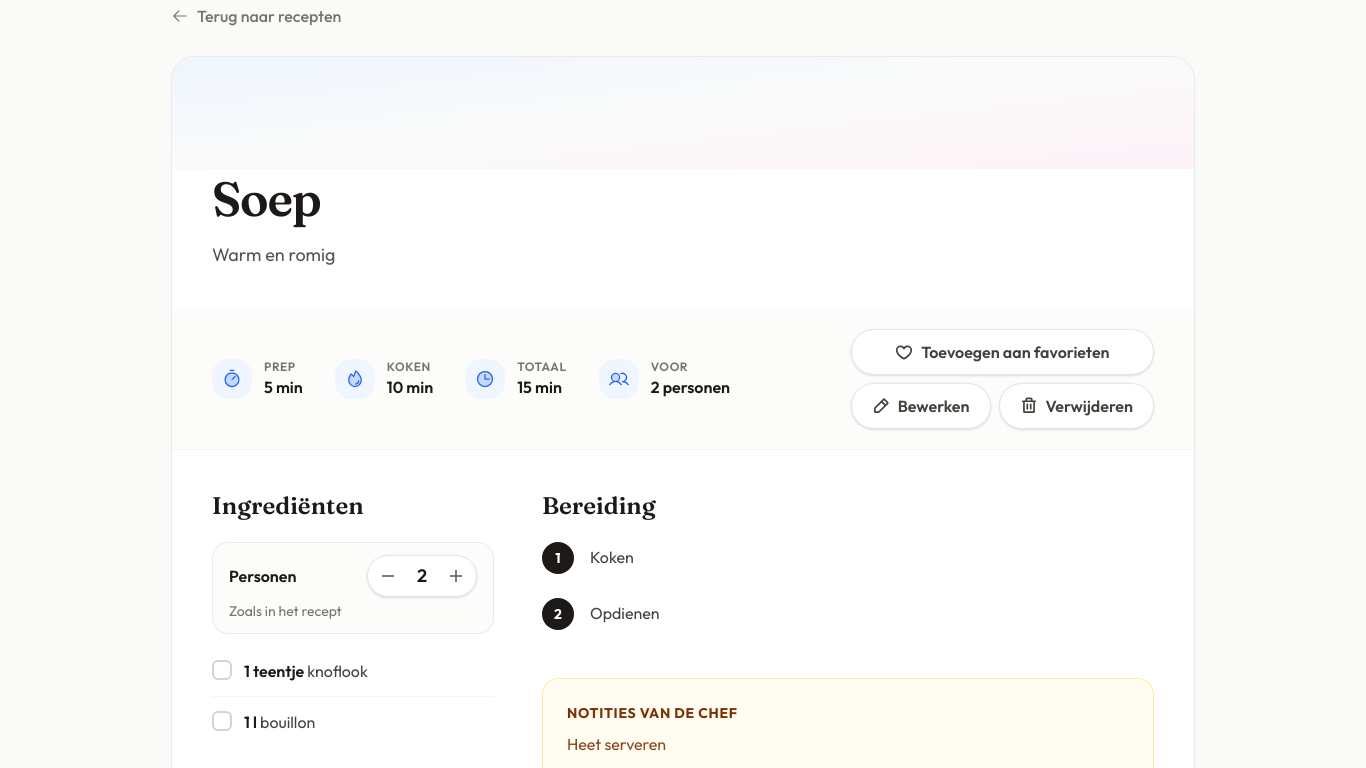
it: languages › shows the Dutch translation in Dutch and scales it the Dutch way
Expected: the text "Warm en romig" is shown, [212,243,335,266]
Expected: the text "Opdienen" is shown, [590,603,660,623]
Click the button named "Meer personen" at (456, 576), box [440,560,472,592]
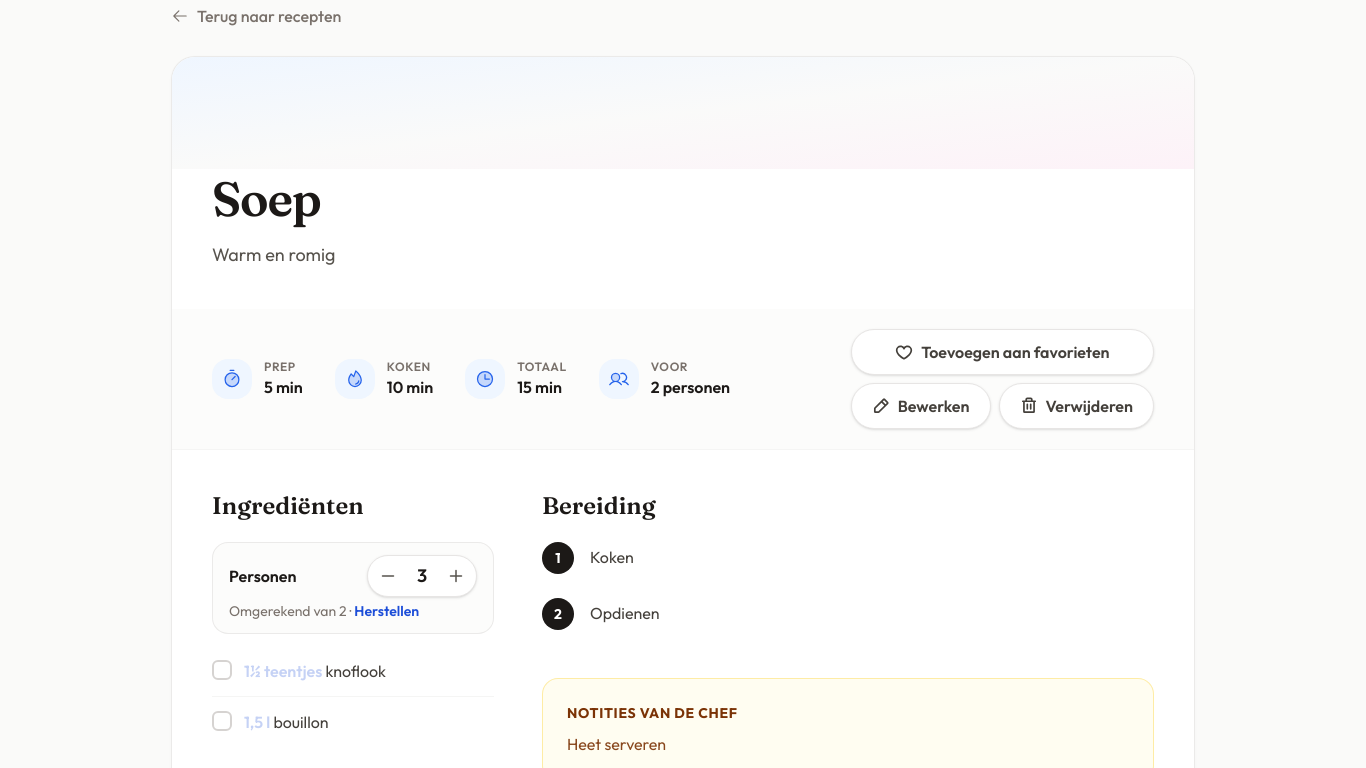
Expected: the text "1½ teentjes" is shown, [244,661,326,681]
Expected: the text "1,5 l" is shown, [244,712,273,732]
